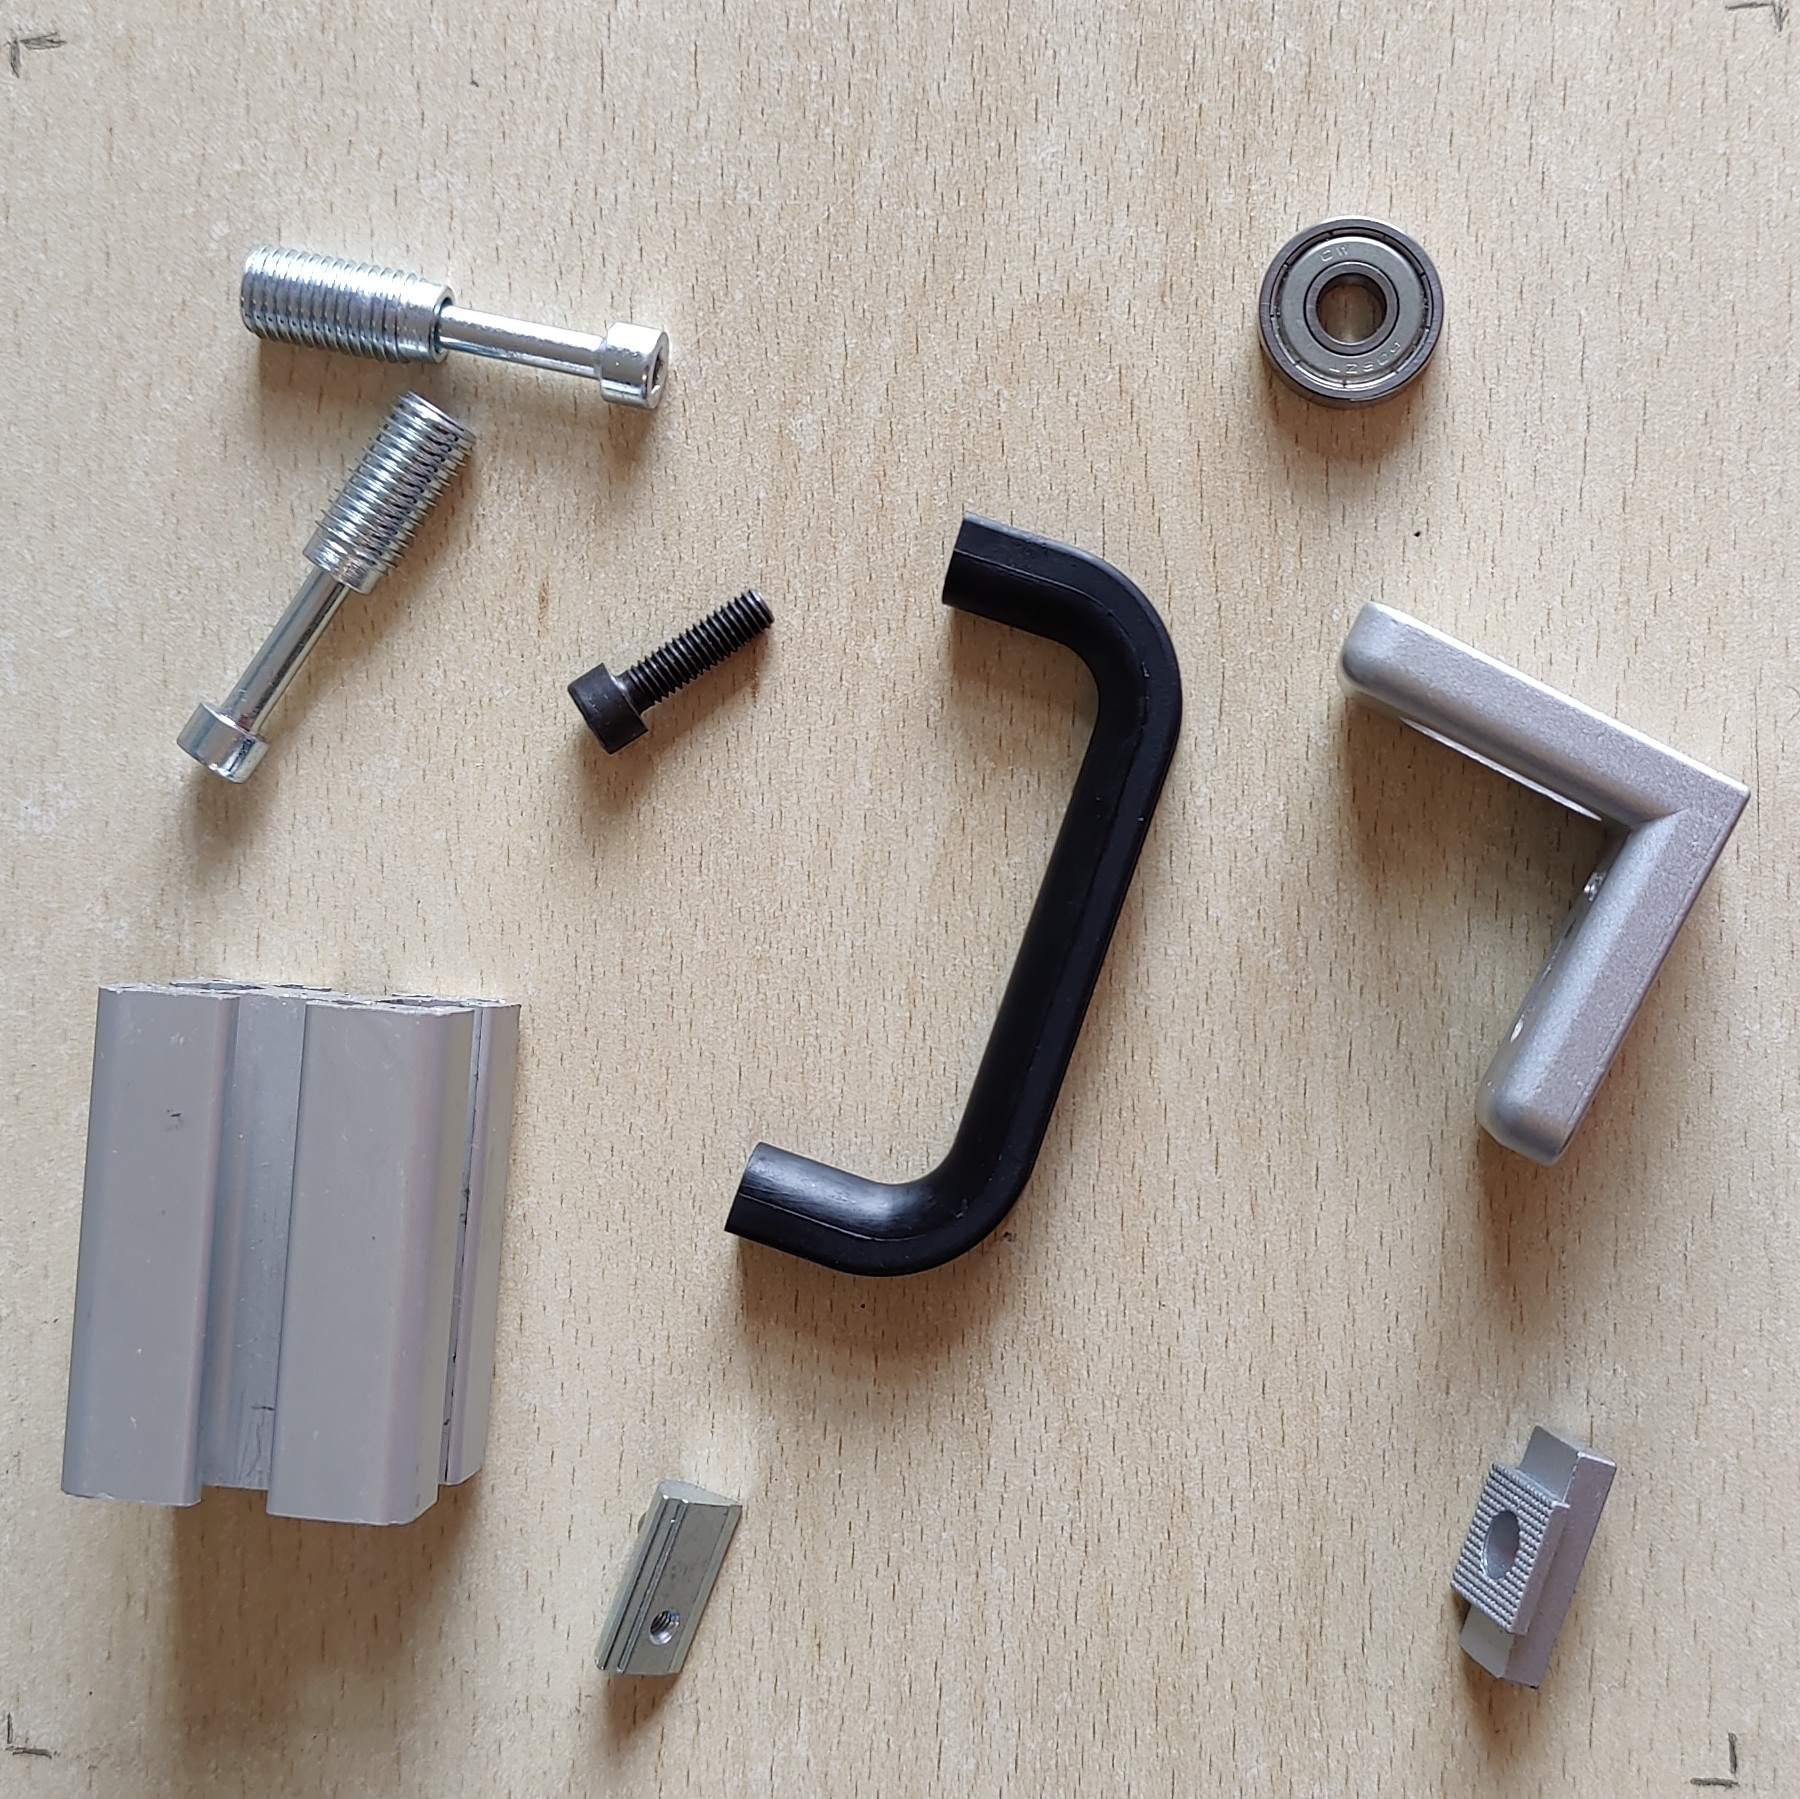Aluminium Extension: (58, 975, 524, 1530)
Ball Bearing: (1253, 214, 1446, 414)
Multiwinkel: (1332, 598, 1754, 1170)
Pull Handle: (721, 511, 1187, 1282)
Shoulder Socket Head Cap Screw: (173, 387, 479, 787), (235, 245, 674, 414)
Socket Head Cap Screw: (565, 582, 777, 758)
T Nut Square: (1448, 1422, 1619, 1695)
T Spring Nut: (590, 1478, 746, 1680)
